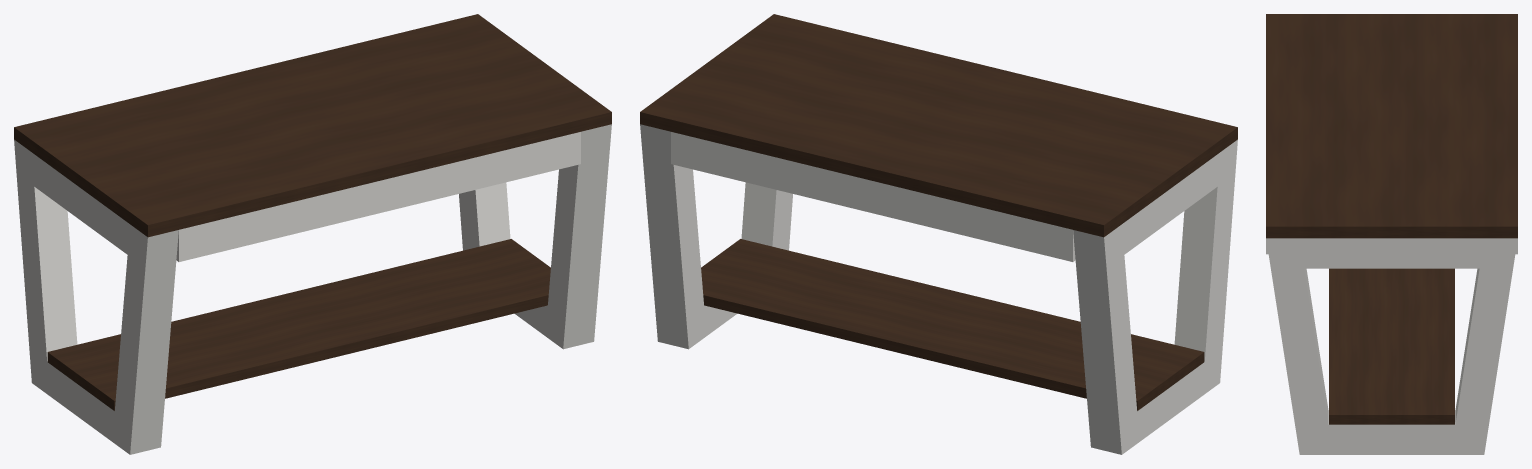
File: mesa-living-nord-estante-ebano-blanco-8cm.glb
The picture shows the model from 3 angles, left to right: view 1: azimuth 30°, elevation 25°; view 2: azimuth 150°, elevation 25°; view 3: azimuth 270°, elevation 25°; orthographic projection. The views are drawn at different scales.
Visible parts, largest first — view 1: Tapa de madera maciza 120 x 60 x 3 cm, Patas inclinadas con cortes a inglete, Estante inferior de madera de 120 cm (proporción aproximada), Larguero longitudinal superior de hierro 8 x 8 mm, Travesaño superior del trapecio, perfil 8 cm, Travesaño inferior del trapecio, perfil 8 cm (×2); view 2: Tapa de madera maciza 120 x 60 x 3 cm, Patas inclinadas con cortes a inglete, Estante inferior de madera de 120 cm (proporción aproximada), Larguero longitudinal superior de hierro 8 x 8 mm, Travesaño superior del trapecio, perfil 8 cm, Travesaño inferior del trapecio, perfil 8 cm; view 3: Tapa de madera maciza 120 x 60 x 3 cm, Estante inferior de madera de 120 cm (proporción aproximada), Patas inclinadas con cortes a inglete, Travesaño superior del trapecio, perfil 8 cm, Travesaño inferior del trapecio, perfil 8 cm.
Part boxes in pixels (left/top/right/bottom): Tapa de madera maciza 120 x 60 x 3 cm: left=14, top=14, right=611, bottom=237; Patas inclinadas con cortes a inglete: left=14, top=124, right=611, bottom=454; Estante inferior de madera de 120 cm (proporción aproximada): left=47, top=239, right=550, bottom=410; Larguero longitudinal superior de hierro 8 x 8 mm: left=176, top=132, right=580, bottom=261; Travesaño superior del trapecio, perfil 8 cm: left=32, top=153, right=138, bottom=262; Travesaño inferior del trapecio, perfil 8 cm (×2): left=47, top=305, right=554, bottom=446; Tapa de madera maciza 120 x 60 x 3 cm: left=640, top=14, right=1237, bottom=237; Patas inclinadas con cortes a inglete: left=640, top=124, right=1237, bottom=454; Estante inferior de madera de 120 cm (proporción aproximada): left=701, top=239, right=1204, bottom=410; Larguero longitudinal superior de hierro 8 x 8 mm: left=671, top=132, right=1075, bottom=261; Travesaño superior del trapecio, perfil 8 cm: left=1113, top=146, right=1228, bottom=254; Travesaño inferior del trapecio, perfil 8 cm: left=1137, top=362, right=1204, bottom=441; Tapa de madera maciza 120 x 60 x 3 cm: left=1266, top=14, right=1517, bottom=238; Estante inferior de madera de 120 cm (proporción aproximada): left=1329, top=268, right=1454, bottom=424; Patas inclinadas con cortes a inglete: left=1266, top=238, right=1517, bottom=454; Travesaño superior del trapecio, perfil 8 cm: left=1283, top=238, right=1500, bottom=268; Travesaño inferior del trapecio, perfil 8 cm: left=1316, top=410, right=1467, bottom=454.
Size of the model in its own units: 1.2 by 0.6 by 0.6.
Materials: 2 (1 with a texture image).
